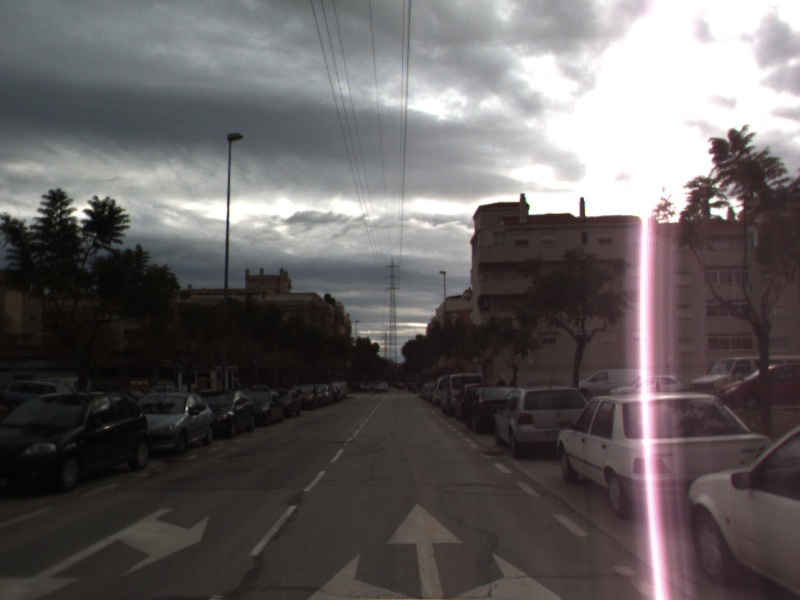STRAIGHT_LEFT_RIGHT: (299, 500, 566, 600)
